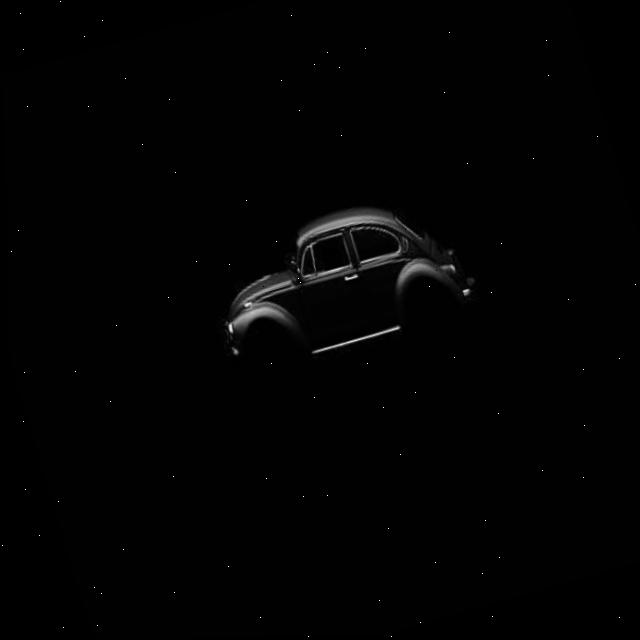vehicle: (195, 182, 490, 400)
